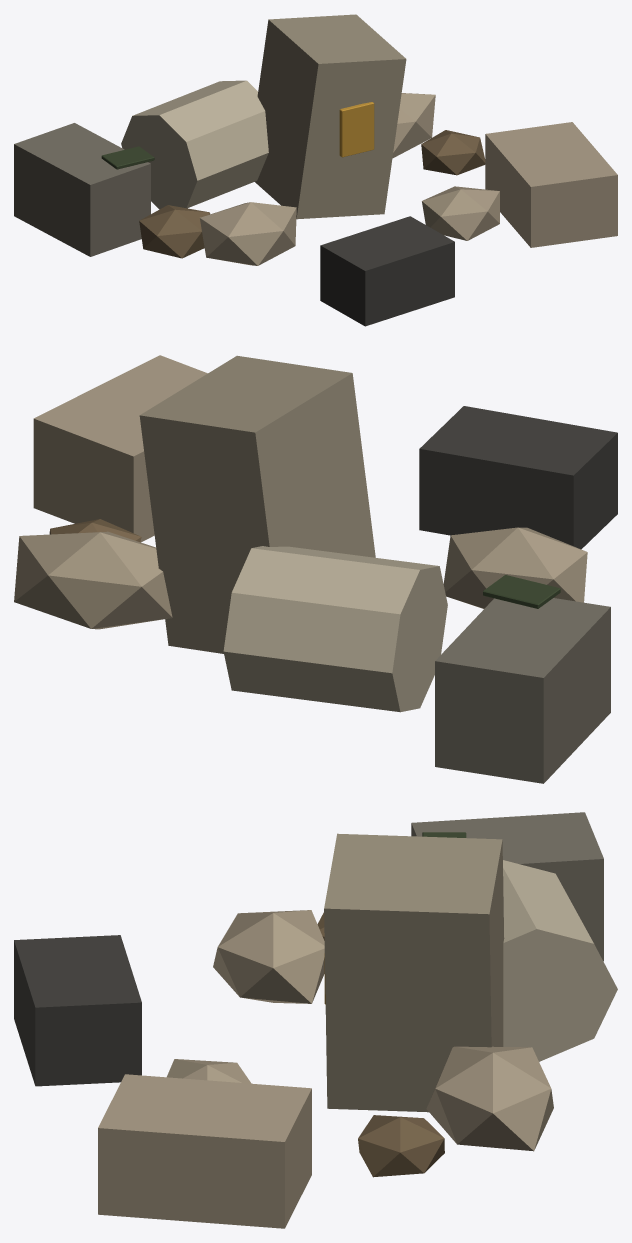
3 views of the same model, one above another, from view 1: azimuth 30°, elevation 25°; view 2: azimuth 150°, elevation 25°; view 3: azimuth 270°, elevation 25° (orthographic). The views are drawn at different scales.
Parts seen in each view (by area): view 1: WK_Stone_A12_RuinRubble_Masonry3m_LOD0; view 2: WK_Stone_A12_RuinRubble_Masonry3m_LOD0; view 3: WK_Stone_A12_RuinRubble_Masonry3m_LOD0.
Boxes of the visible parts, x1=… form: WK_Stone_A12_RuinRubble_Masonry3m_LOD0: x1=14, y1=14, x2=617, y2=326; WK_Stone_A12_RuinRubble_Masonry3m_LOD0: x1=14, y1=355, x2=617, y2=783; WK_Stone_A12_RuinRubble_Masonry3m_LOD0: x1=14, y1=812, x2=617, y2=1228.
Size of the model in its own units: 3.2 by 1.1 by 2.6.
